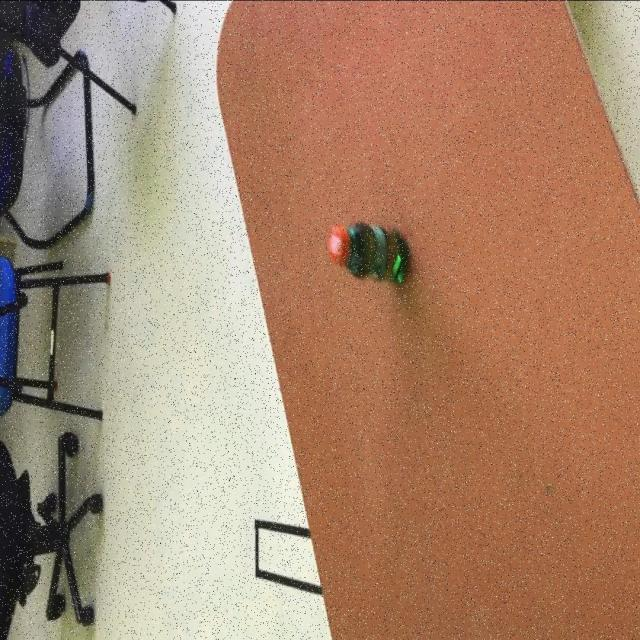Guarana: (326, 221, 408, 288), (326, 222, 388, 283)
